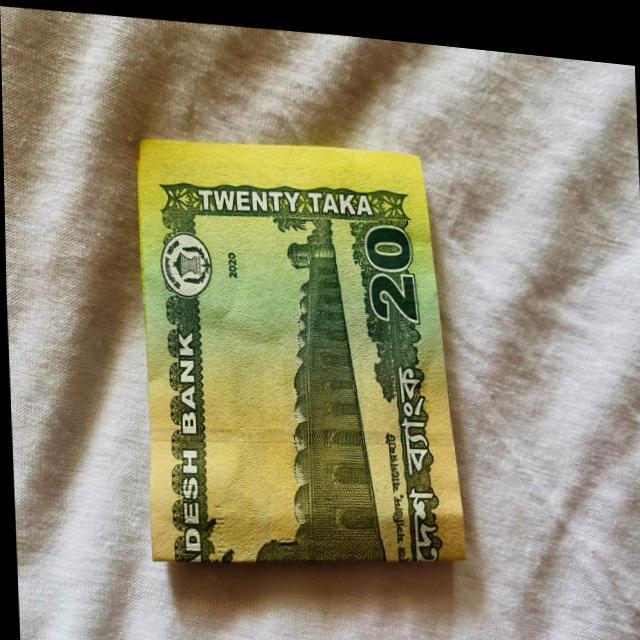Taka: (130, 119, 465, 583)
